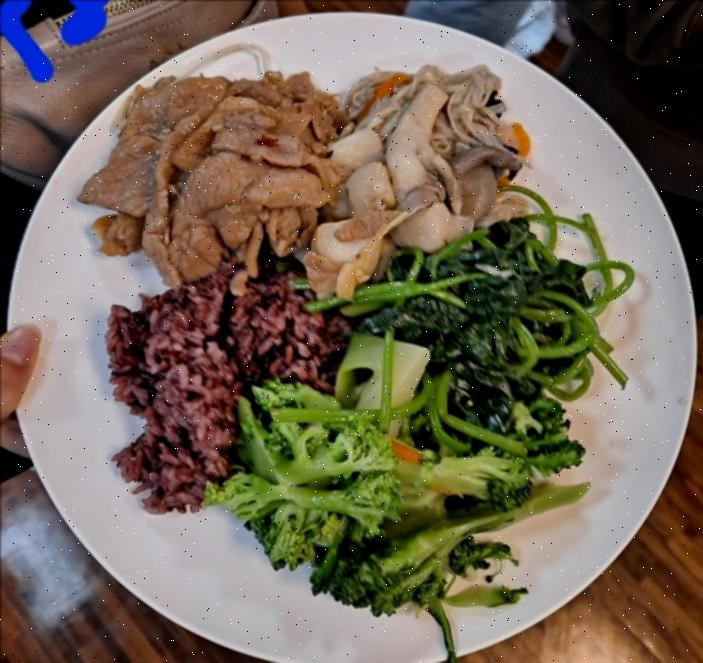plate: (0, 11, 699, 663)
purple rice: (107, 270, 340, 518)
side dish: (233, 375, 585, 623), (357, 221, 632, 442), (310, 59, 534, 285)
thai pork: (86, 67, 336, 292)
